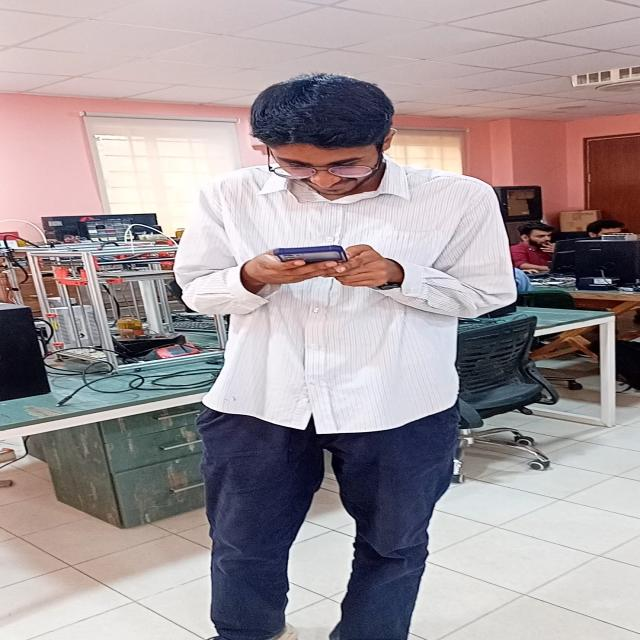dress: (162, 160, 528, 640)
glasses: (256, 156, 387, 182)
